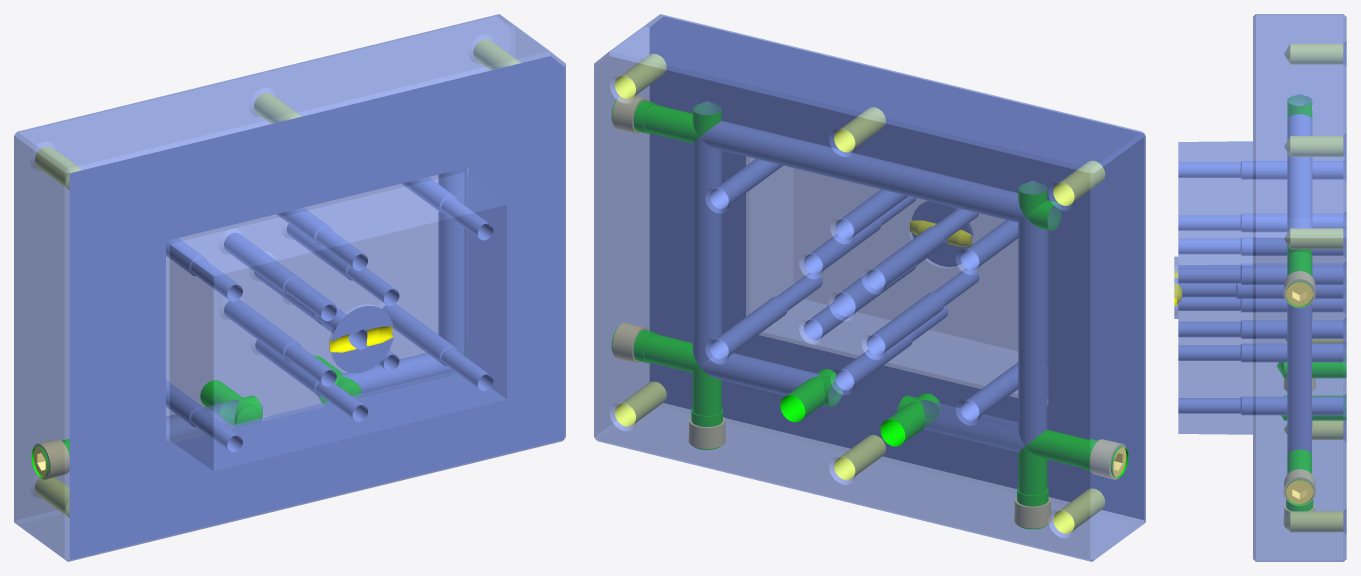
The model's file is core.glb.
The picture shows the model from 3 angles, left to right: view 1: azimuth 30°, elevation 25°; view 2: azimuth 150°, elevation 25°; view 3: azimuth 270°, elevation 25°; orthographic projection. The views are drawn at different scales.
Visible parts, largest first — view 1: UM_CORE_BLOCK, cardcase_pipe_plug_096; view 2: UM_CORE_BLOCK, cardcase_pipe_plug_095 (×2), cardcase_pipe_plug_094 (×2), cardcase_pipe_plug_096; view 3: UM_CORE_BLOCK, cardcase_pipe_plug_094 (×2).
Part boxes in pixels (box(x1,y1,x2,y2)): UM_CORE_BLOCK: box(14, 14, 565, 561); cardcase_pipe_plug_096: box(33, 439, 69, 479); UM_CORE_BLOCK: box(594, 14, 1145, 561); cardcase_pipe_plug_095 (×2): box(688, 417, 1051, 528); cardcase_pipe_plug_094 (×2): box(612, 96, 648, 362); cardcase_pipe_plug_096: box(1089, 439, 1126, 479); UM_CORE_BLOCK: box(1174, 14, 1346, 561); cardcase_pipe_plug_094 (×2): box(1283, 271, 1315, 506).
Size of the model in its own units: 0.16 by 0.12 by 0.0551.
